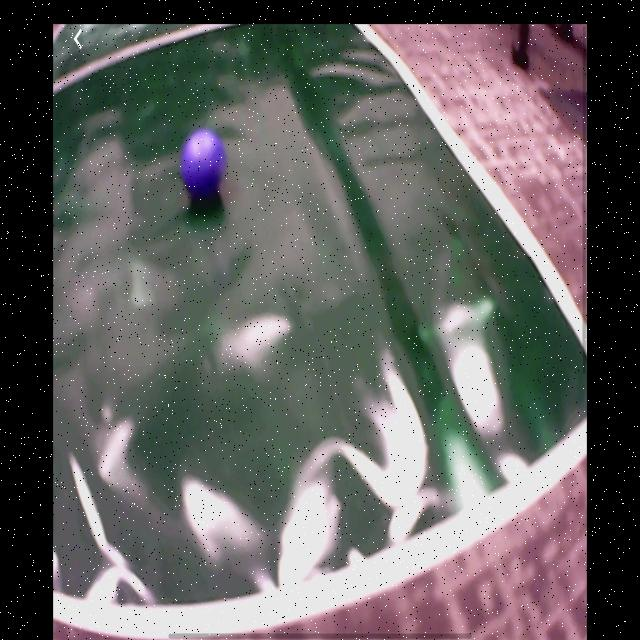ball: (182, 129, 228, 203)
